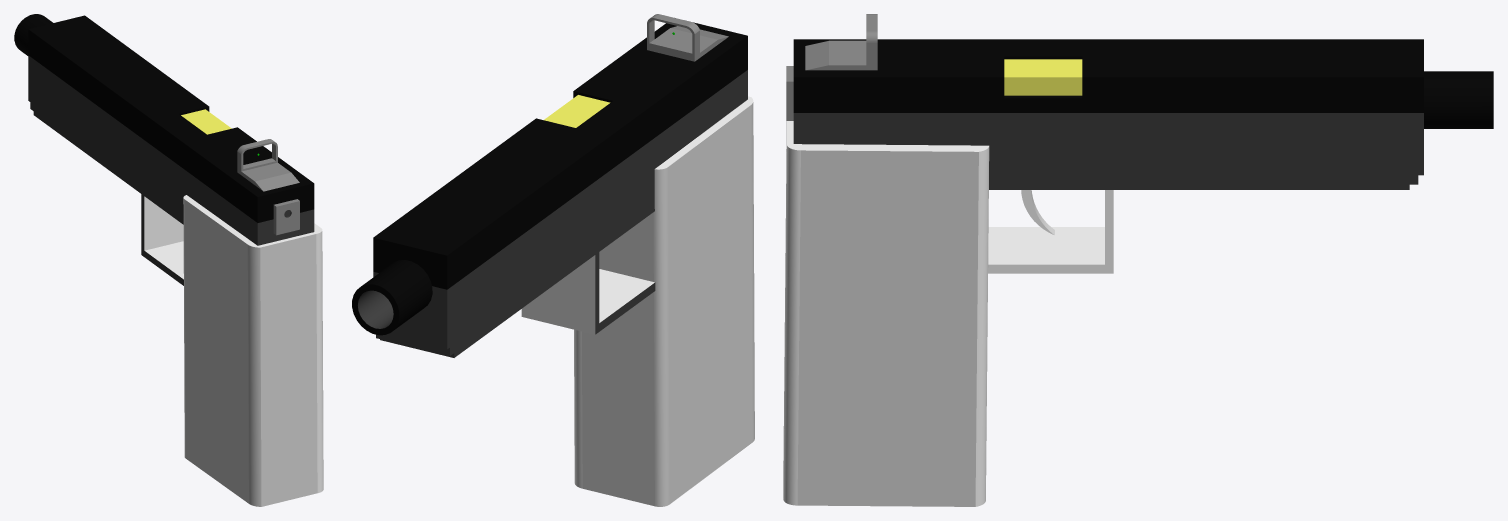
The model's file is Placeholder_pistol_fbx.fbx.
3 renders of one model, left to right at view 1: azimuth 30°, elevation 25°; view 2: azimuth 150°, elevation 25°; view 3: azimuth 270°, elevation 25°, orthographic. The views are drawn at different scales.
Visible parts, largest first — view 1: Model; view 2: Model; view 3: Model.
Boxes of the visible parts, <box> form: Model: <box>14,14,323,506</box>; Model: <box>352,14,754,506</box>; Model: <box>783,14,1493,506</box>.
Size of the model in its own units: 0.79 by 3.5 by 4.91.
